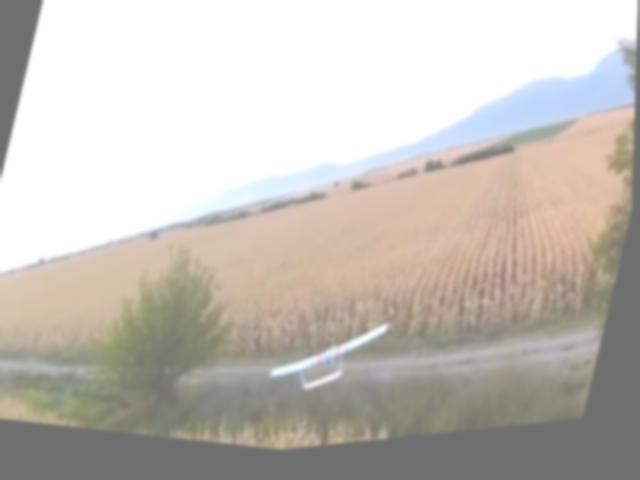uav: (265, 303, 395, 416)
